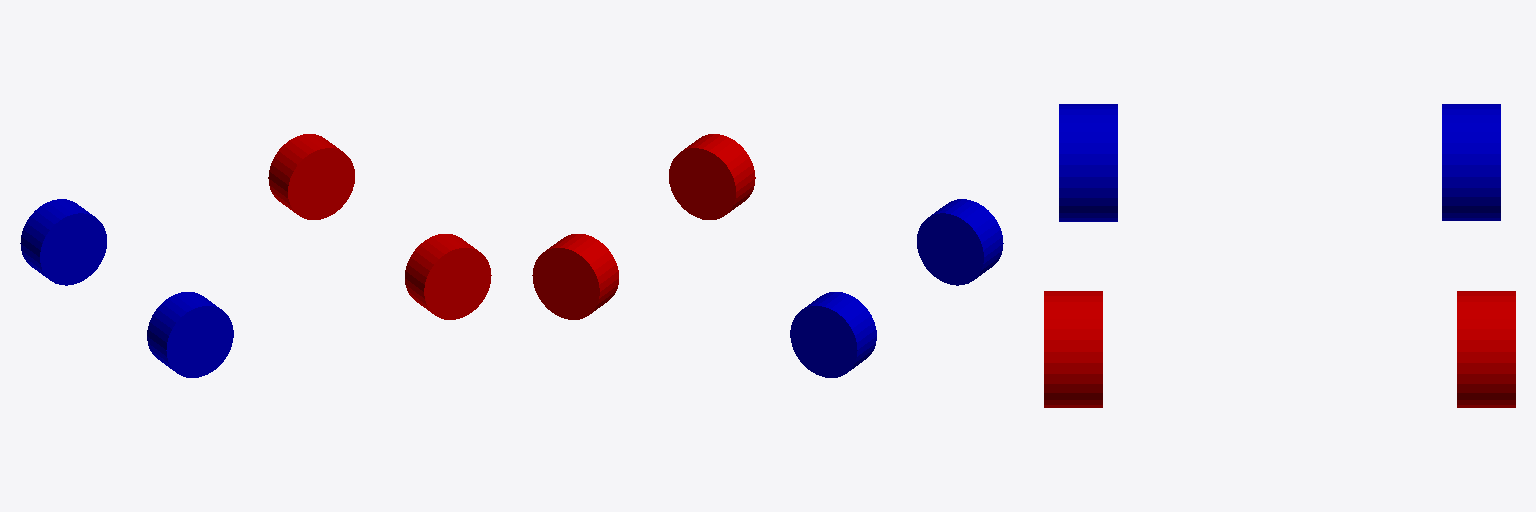
URDF robot description (Unicycle):
<?xml version="1.0"?>
<robot name="Unicycle">
  <link name="world"/>
  <link name="carbody">
    <visual>
      <origin xyz="-0.13 0 0" rpy="1.57070 0 1.5707 "/>
      <geometry>
        <mesh filename="model://rccar/meshes/carwithoutfronttyres.dae" scale="0.001 0.001 0.001"/>
        <!--mesh filename="package://gcop_urdf/meshes/Slash.dae"/-->
        <!--box size="0.3 .10 0.05"/-->
      </geometry>
    </visual>
    <collision>
      <origin xyz="-0.13 0 0" rpy="1.57070 0 1.5707 "/>
      <geometry>
        <mesh filename="model://rccar/meshes/carwithoutfronttyres.dae" scale="0.001 0.001 0.001"/>
        <!--mesh filename="package://gcop_urdf/meshes/Slash.dae"/-->
        <!--box size="0.3 .10 0.05"/-->
      </geometry>
    </collision>
    <inertial>
      <mass value="10"/>
      <inertia ixx="0.4" ixy="0.0" ixz="0.0" iyy="0.4" iyz="0.0" izz="0.2"/>
    </inertial>
  </link>
  <link name="kinect">
    <visual>
      <origin xyz=".03 -0.07 0.08" rpy="-1.5707 0 1.57070"/>
      <geometry>
        <mesh filename="model://rccar/meshes/kinect_sensor.dae" scale="0.00001 0.00001 0.00001"/>
        <!--box size="0.3 .10 0.05"/-->
      </geometry>
      <material name="blue">
        <color rgba="0 0 0.8 1"/>
      </material>
    </visual>
    <collision>
      <origin xyz=".03 -0.07 0.08" rpy="-1.5707 0 1.57070"/>
      <geometry>
        <mesh filename="model://rccar/meshes/kinect_sensor.dae" scale="0.00001 0.00001 0.00001"/>
        <!--box size="0.3 .10 0.05"/-->
      </geometry>
    </collision>
    <inertial>
      <mass value="0.3"/>
      <inertia ixx="0.01" ixy="0.0" ixz="0.0" iyy="0.01" iyz="0.0" izz="0.01"/>
    </inertial>
  </link>
  <link name="backwheel1">
    <visual>
      <geometry>
        <cylinder length="0.04" radius="0.04"/>
      </geometry>
      <material name="blue">
        <color rgba="0 0 0.8 1"/>
      </material>
    </visual>
    <collision>
      <geometry>
        <cylinder length="0.04" radius="0.04"/>
      </geometry>
    </collision>
    <inertial>
      <mass value="0.3"/>
      <inertia ixx="0.01" ixy="0.0" ixz="0.0" iyy="0.01" iyz="0.0" izz="0.01"/>
    </inertial>
  </link>
  <link name="backwheel2">
    <visual>
      <geometry>
        <cylinder length="0.04" radius="0.04"/>
      </geometry>
      <material name="blue">
        <color rgba="0 0 0.8 1"/>
      </material>
    </visual>
    <collsion>
      <geometry>
        <cylinder length="0.04" radius="0.04"/>
      </geometry>
    </collsion>
    <inertial>
      <mass value="0.3"/>
      <inertia ixx="0.01" ixy="0.0" ixz="0.0" iyy="0.01" iyz="0.0" izz="0.01"/>
    </inertial>
  </link>
  <link name="frontwheel1">
    <visual>
      <geometry>
        <cylinder length="0.04" radius="0.04"/>
      </geometry>
      <material name="red">
        <color rgba="0.8 0 0 1"/>
      </material>
    </visual>
    <collision>
      <geometry>
        <cylinder length="0.04" radius="0.04"/>
      </geometry>
    </collision>
    <inertial>
      <mass value="0.3"/>
      <inertia ixx="0.01" ixy="0.0" ixz="0.0" iyy="0.01" iyz="0.0" izz="0.01"/>
    </inertial>
  </link>
  <link name="frontwheel2">
    <visual>
      <geometry>
        <cylinder length="0.04" radius="0.04"/>
      </geometry>
      <material name="red">
        <color rgba="0.8 0 0 1"/>
      </material>
    </visual>
    <collision>
      <geometry>
        <cylinder length="0.04" radius="0.04"/>
      </geometry>
    </collision>
    <inertial>
      <mass value="0.3"/>
      <inertia ixx="0.01" ixy="0.0" ixz="0.0" iyy="0.01" iyz="0.0" izz="0.01"/>
    </inertial>
  </link>
  <!-- Joints -->
  <joint name="basetocarbody" type="fixed">
    <parent link="world"/>
    <child link="carbody"/>
    <origin rpy="0 0 0" xyz="0.15 0.0 0"/>
  </joint>
  <joint name="carbodytokinect" type="fixed">
    <parent link="carbody"/>
    <child link="kinect"/>
    <origin rpy="0 0 0" xyz="0.15 0.0 0"/>
  </joint>
  <joint name="base_to_backwheel1" type="continuous">
    <parent link="carbody"/>
    <child link="backwheel1"/>
    <origin rpy="-1.5707 0 0" xyz="-0.15 -0.13 0"/>
    <axis xyz="0 0 1"/>
  </joint>
  <joint name="base_to_frontwheel1" type="continuous">
    <parent link="carbody"/>
    <child link="frontwheel1"/>
    <origin rpy="-1.5707 0 0" xyz="0.15 -0.14 0"/>
    <axis xyz="0 -1 0"/>
  </joint>
  <joint name="base_to_frontwheel2" type="continuous">
    <parent link="carbody"/>
    <child link="frontwheel2"/>
    <origin rpy="-1.5707 0 0" xyz="0.15 0.14 0"/>
    <axis xyz="0 -1 0"/>
  </joint>
  <joint name="backwheel1_to_backwheel2" type="fixed">
    <parent link="backwheel1"/>
    <child link="backwheel2"/>
    <origin rpy="0 0 0" xyz="0 0 0.260"/>
  </joint>
  <gazebo reference="carbody">
    <material>
      <script>
        <uri>model://polaris_ranger_xp900/materials/scripts</uri>
        <uri>model://polaris_ranger_xp900/materials/textures</uri>
        <name>PolarisXP900/Diffuse</name>
      </script>
    </material>
  </gazebo>
  <gazebo reference="backwheel1">
    <material>Gazebo/Black</material>
  </gazebo>
  <gazebo reference="backwheel2">
    <material>Gazebo/Black</material>
  </gazebo>
  <gazebo reference="frontwheel1">
    <material>Gazebo/Black</material>
  </gazebo>
  <gazebo reference="frontwheel2">
    <material>Gazebo/Black</material>
  </gazebo>
</robot>

--- Render facts (derived) ---
Views: 3 orthographic renders of the robot side by side, from view 1: azimuth 30°, elevation 25°; view 2: azimuth 150°, elevation 25°; view 3: azimuth 270°, elevation 25°.
Robot: Unicycle — 7 links, 6 joints (3 continuous, 3 fixed); root link world; default pose: all joints at 0.
Links seen in each view (by area): view 1: backwheel1, backwheel2, frontwheel1, frontwheel2; view 2: backwheel2, backwheel1, frontwheel2, frontwheel1; view 3: backwheel1, backwheel2, frontwheel1, frontwheel2.
Link boxes in pixels (x1,y1,x2,y2): backwheel1: [147, 292, 233, 377]; backwheel2: [20, 199, 106, 285]; frontwheel1: [405, 234, 491, 319]; frontwheel2: [268, 134, 354, 219]; backwheel2: [790, 292, 876, 377]; backwheel1: [917, 199, 1003, 285]; frontwheel2: [532, 234, 618, 319]; frontwheel1: [669, 134, 755, 219]; backwheel1: [1059, 104, 1117, 221]; backwheel2: [1442, 104, 1500, 220]; frontwheel1: [1044, 291, 1102, 407]; frontwheel2: [1457, 291, 1515, 407].
Size in the robot's own frame: 0.38 by 0.32 by 0.08 metres.
0 mesh visuals loaded from 2 distinct referenced files (none loaded); not drawn: 2 (reference not matched to a file when rendering).